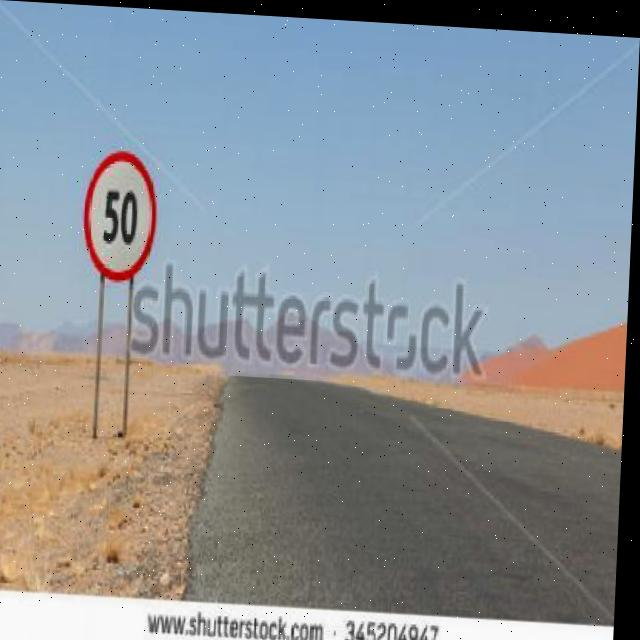Speed limit 50: (79, 145, 165, 284)
